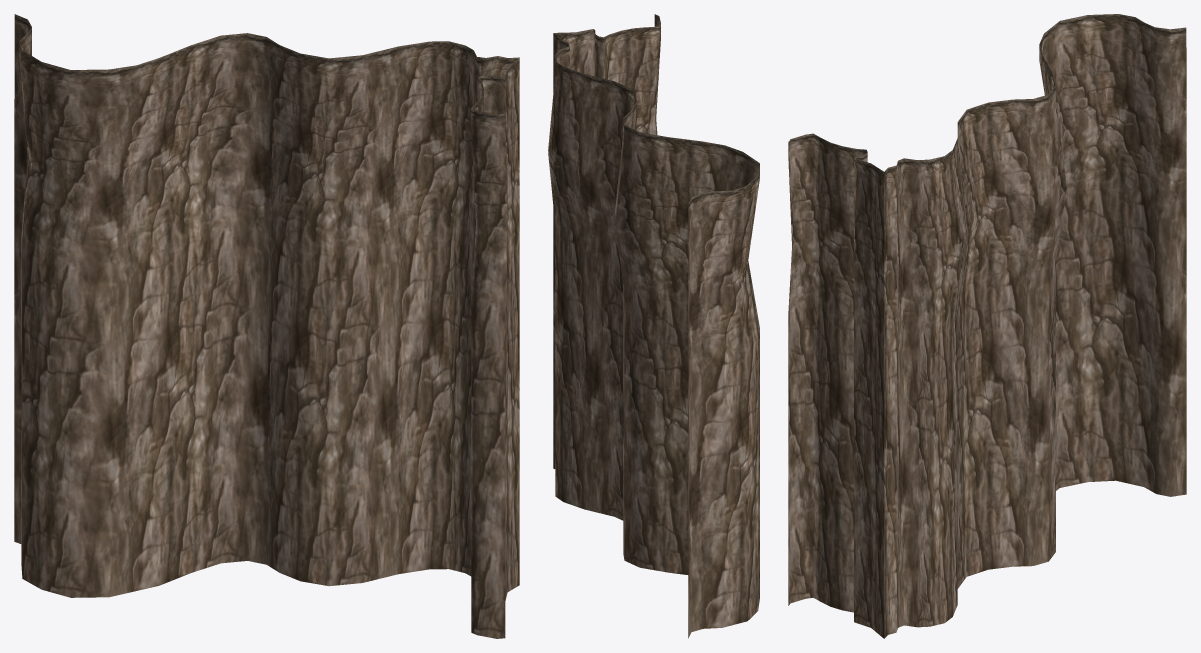
Rendered from OVERHILL_A_01_LINE142.fbx.
3 views of the same model, side by side, from view 1: azimuth 30°, elevation 25°; view 2: azimuth 150°, elevation 25°; view 3: azimuth 270°, elevation 25° (orthographic). The views are drawn at different scales.
Parts seen in each view (by area): view 1: OVERHILL_A_01_LINE142; view 2: OVERHILL_A_01_LINE142; view 3: OVERHILL_A_01_LINE142.
Boxes of the visible parts, x1,y1,x2,y2 form: OVERHILL_A_01_LINE142: [14, 14, 519, 638]; OVERHILL_A_01_LINE142: [548, 14, 759, 638]; OVERHILL_A_01_LINE142: [788, 14, 1186, 638].
Bounding box in the file's own units: 168596 × 232124 × 179427.
Materials: 2 (2 with a texture image).
